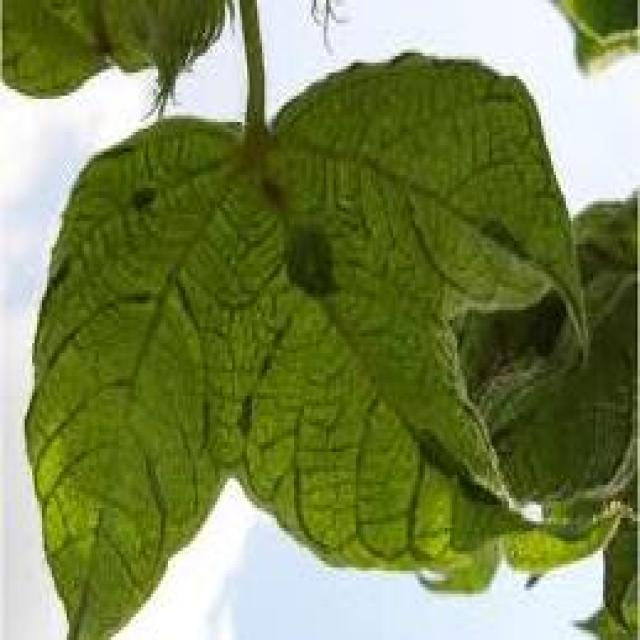Leaf Curl Virus: (97, 169, 551, 445)
